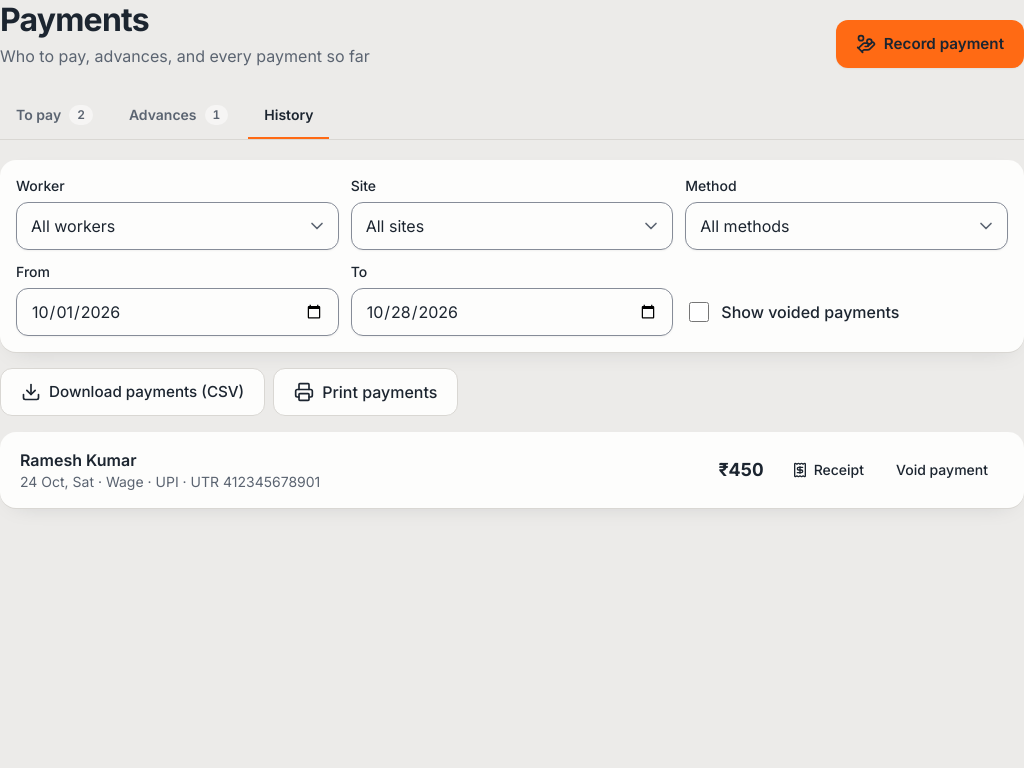
Test case: PaymentsPage › history filters, shows voided rows on request, and voids with a reason
Expected: the text "UTR 412345678901" is shown, [191,473,320,490]
Select "UPI" in the dropdown labelled "Method" at (847, 226), box [685,202,1008,250]
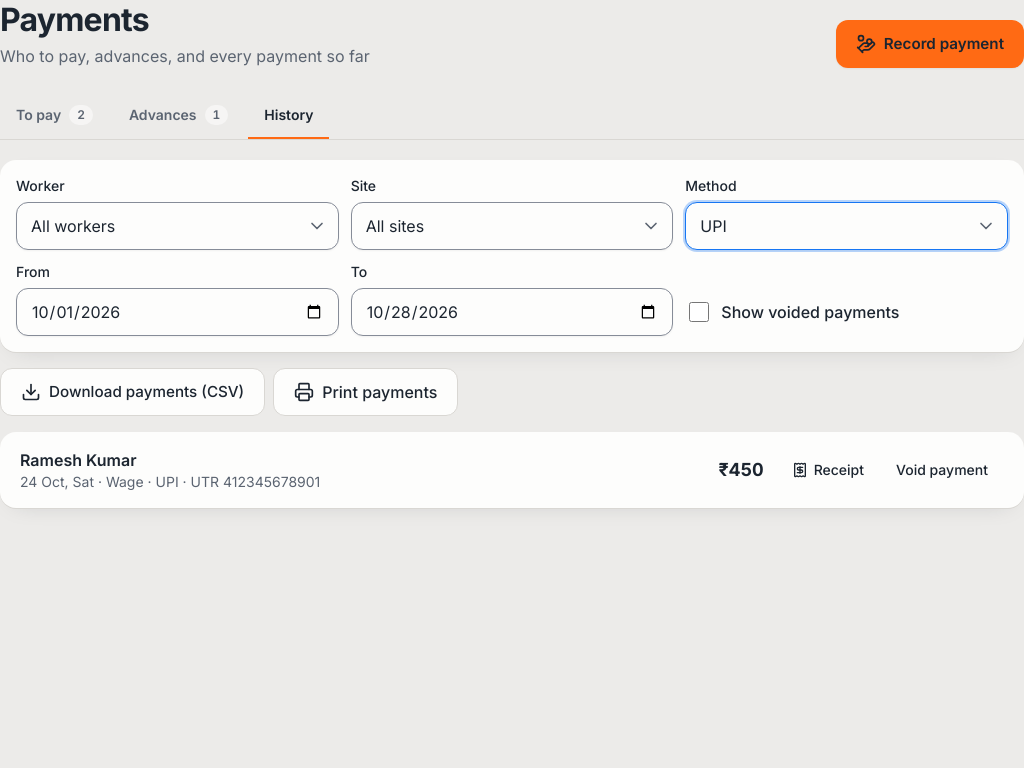
Click the checkbox labelled "Show voided payments".
click(699, 312)  # box [689,302,709,322]
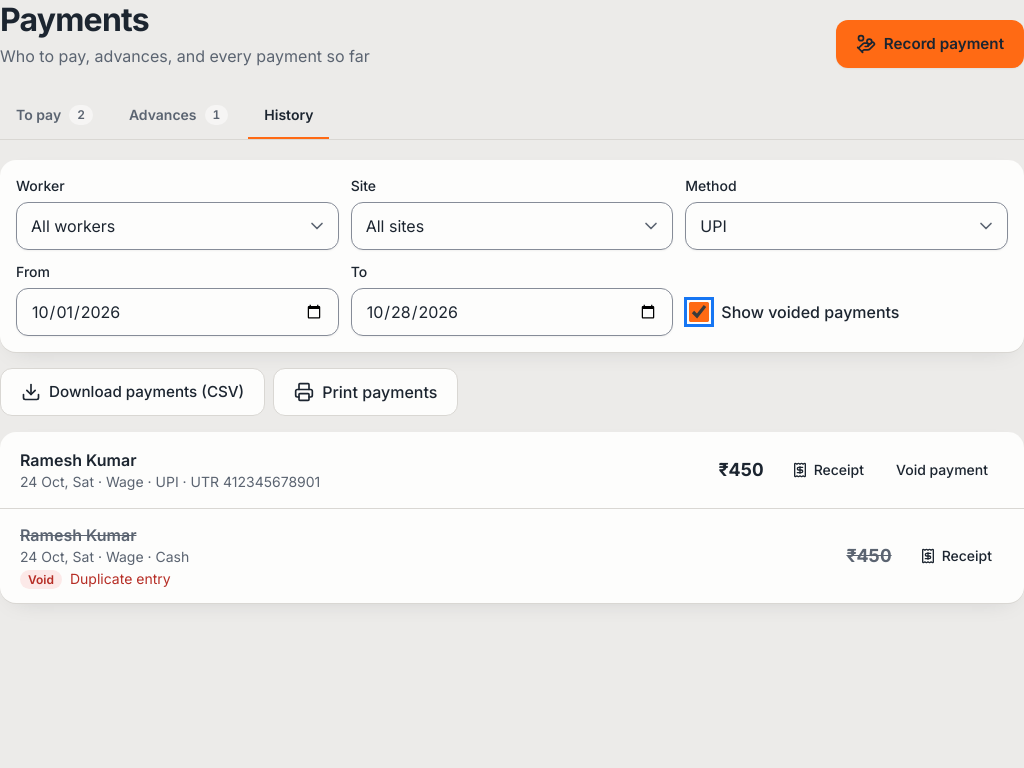
Now the text "Duplicate entry" is shown, box [70,570,171,587]
Click the button "Void payment".
click(942, 470)  # box [880,446,1004,494]
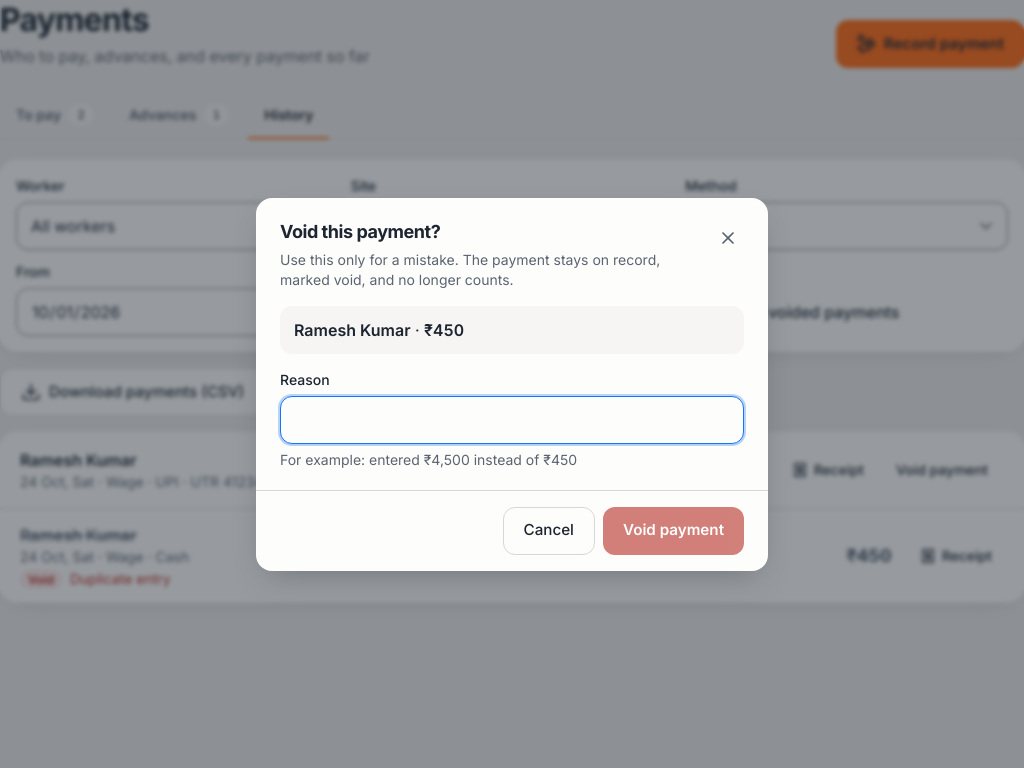
Type "x" into the field labelled "Reason".
click(512, 420); type("x")  # box [280,396,744,444]
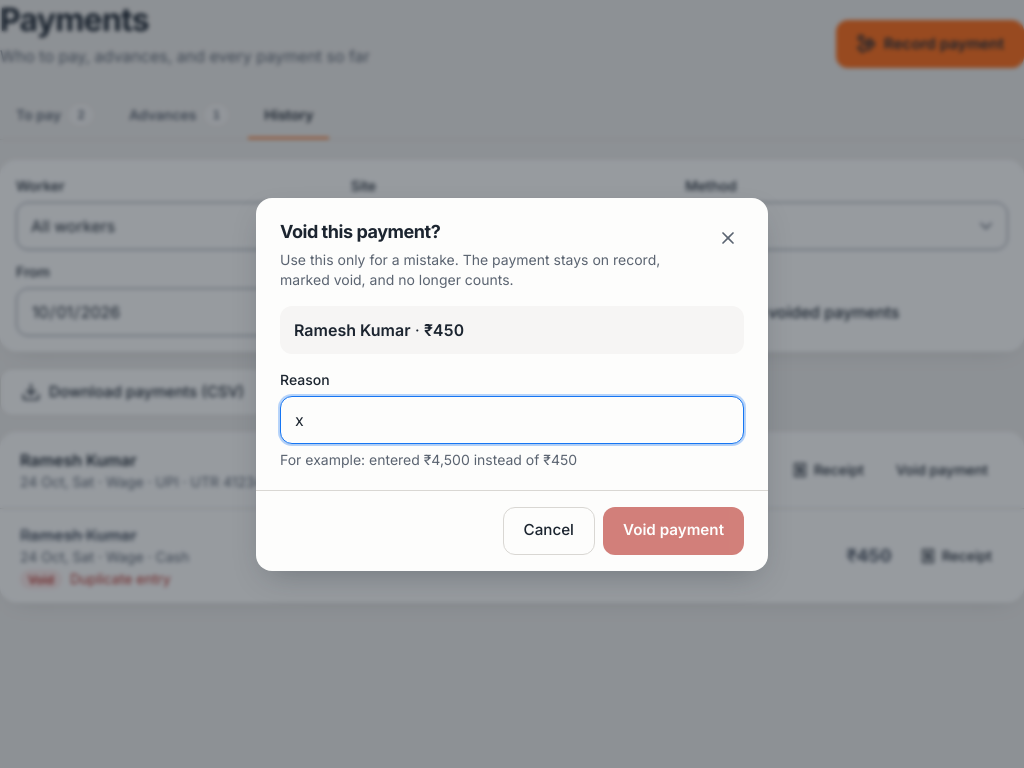
Now the button "Void payment" is disabled, box [603,506,744,554]
Type "yz wrong worker" into the field labelled "Reason".
click(512, 420); type("yz wrong worker")  # box [280,396,744,444]
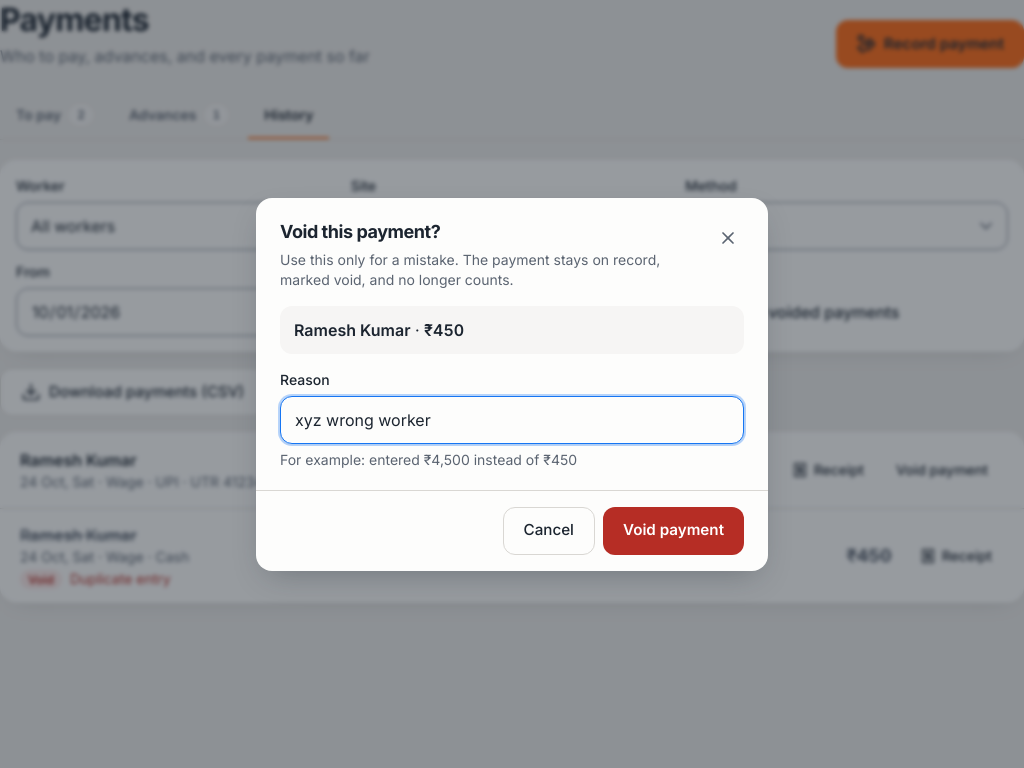
Click the button "Void payment".
click(674, 530)  # box [603,506,744,554]
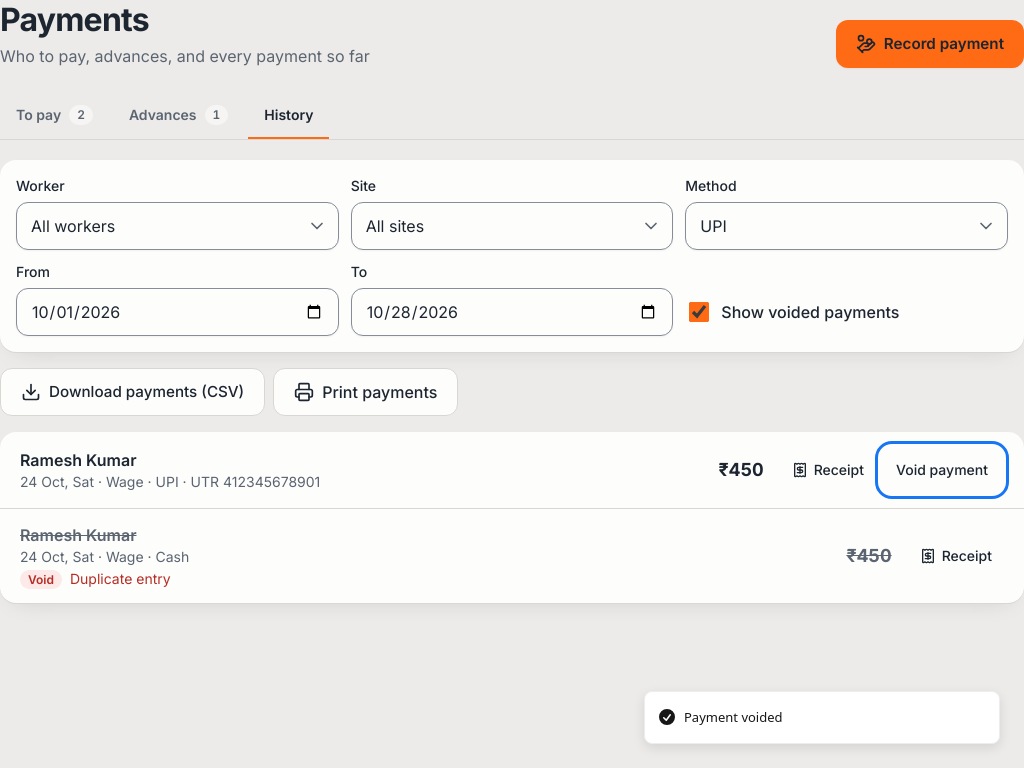
Now the text "Payment voided" is shown, box [684,708,782,727]
